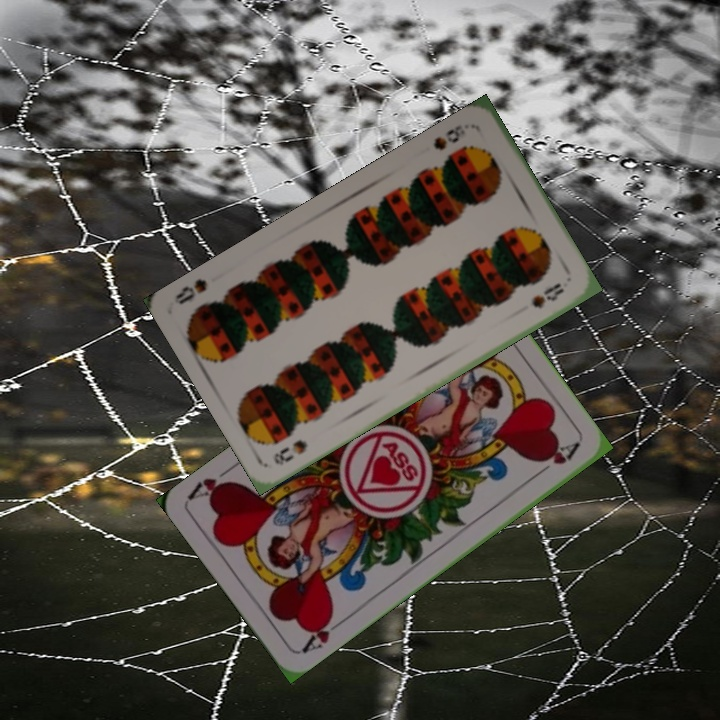HA: (297, 610, 348, 657)
S8: (269, 435, 311, 468), (429, 120, 468, 153)
